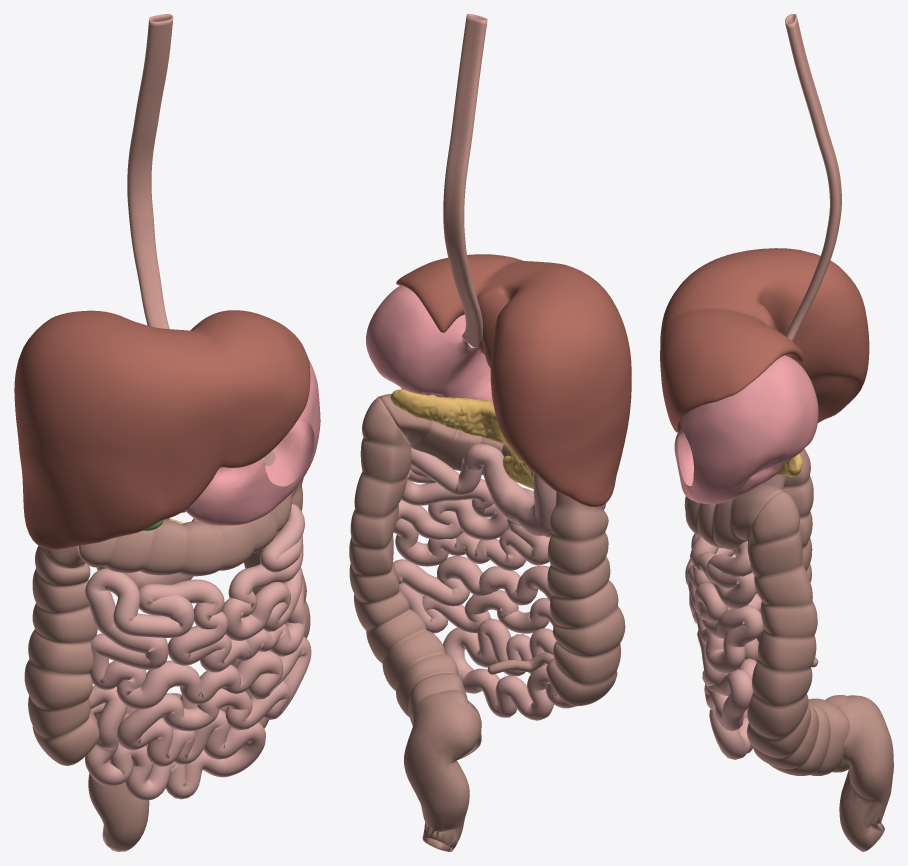
Rendered from digestive-learning.glb.
3 renders of one model, left to right at view 1: azimuth 30°, elevation 25°; view 2: azimuth 150°, elevation 25°; view 3: azimuth 270°, elevation 25°, orthographic. The views are drawn at different scales.
Parts seen in each view (by area): view 1: liver__Liver, small-intestine-jejunum__Jejunum, large-intestine-ascending-colon__Ascending colon, large-intestine-transverse-colon__Transverse colon, oesophagus__Oesophagus, stomach__Stomach, large-intestine-sigmoid-colon__Sigmoid colon, large-intestine-descending-colon__Descending colon, small-intestine-duodenum__Duodenum; view 2: liver__Liver, small-intestine-jejunum__Jejunum, large-intestine-descending-colon__Descending colon, large-intestine-ascending-colon__Ascending colon, stomach__Stomach, large-intestine-sigmoid-colon__Sigmoid colon, oesophagus__Oesophagus, pancreas__Pancreas, small-intestine-duodenum__Duodenum, large-intestine-transverse-colon__Transverse colon, large-intestine-vermiform-appendix__Vermiform appendix; view 3: liver__Liver, large-intestine-descending-colon__Descending colon, stomach__Stomach, small-intestine-jejunum__Jejunum, large-intestine-sigmoid-colon__Sigmoid colon, oesophagus__Oesophagus, large-intestine-transverse-colon__Transverse colon, large-intestine-ascending-colon__Ascending colon.
Part boxes in pixels (x1,y1,x2,y2): liver__Liver: (14,310,310,549); small-intestine-jejunum__Jejunum: (85,504,311,800); large-intestine-ascending-colon__Ascending colon: (24,545,99,765); large-intestine-transverse-colon__Transverse colon: (79,451,297,576); oesophagus__Oesophagus: (127,14,173,329); stomach__Stomach: (185,360,320,525); large-intestine-sigmoid-colon__Sigmoid colon: (88,714,149,851); large-intestine-descending-colon__Descending colon: (126,478,310,746); small-intestine-duodenum__Duodenum: (96,518,198,588); liver__Liver: (396,254,631,507); small-intestine-jejunum__Jejunum: (393,447,576,720); large-intestine-descending-colon__Descending colon: (349,397,481,759); large-intestine-ascending-colon__Ascending colon: (546,491,625,706); stomach__Stomach: (366,285,492,402); large-intestine-sigmoid-colon__Sigmoid colon: (404,692,481,851); oesophagus__Oesophagus: (443,14,487,347); pancreas__Pancreas: (390,389,533,488); small-intestine-duodenum__Duodenum: (463,444,556,536); large-intestine-transverse-colon__Transverse colon: (378,393,517,482); large-intestine-vermiform-appendix__Vermiform appendix: (487,652,554,674); liver__Liver: (660,248,869,432); large-intestine-descending-colon__Descending colon: (747,491,849,775); stomach__Stomach: (674,355,818,504); small-intestine-jejunum__Jejunum: (685,533,763,759); large-intestine-sigmoid-colon__Sigmoid colon: (838,695,893,851); oesophagus__Oesophagus: (785,14,841,341); large-intestine-transverse-colon__Transverse colon: (684,485,783,549); large-intestine-ascending-colon__Ascending colon: (756,448,813,642).
Size of the model in its own units: 0.229 by 0.6718 by 0.1712.
